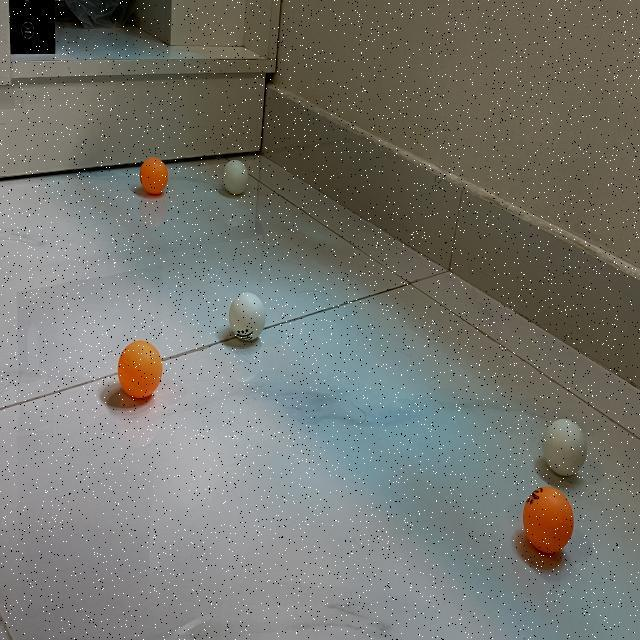ping-pong-ball: (524, 487, 574, 553), (542, 418, 586, 476), (119, 340, 162, 398), (230, 292, 266, 342), (140, 157, 168, 195), (224, 160, 250, 194)
